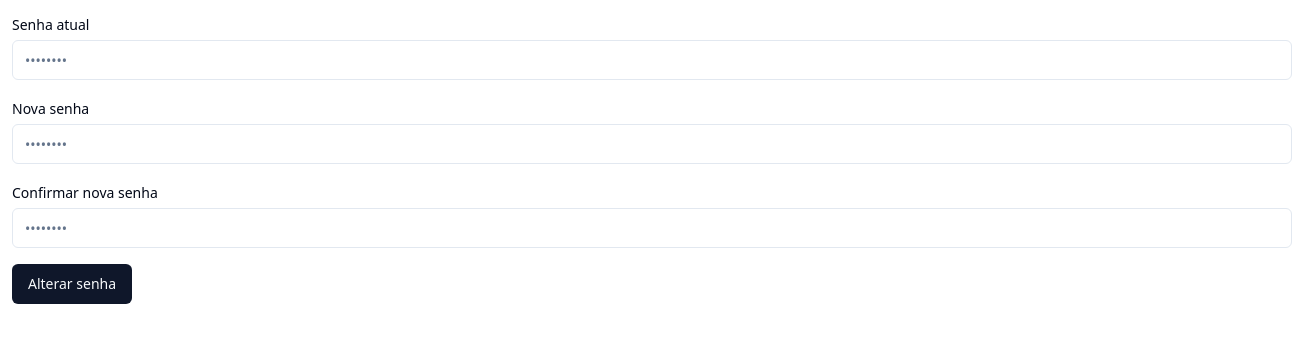
Test: PasswordForm › shows error when passwords do not match
The width and height of the screenshot is (1304, 349).
Type "senhaAtual" into the password field labelled "Senha atual" at x=652, y=60, box x1=12 y1=40 x2=1292 y2=80
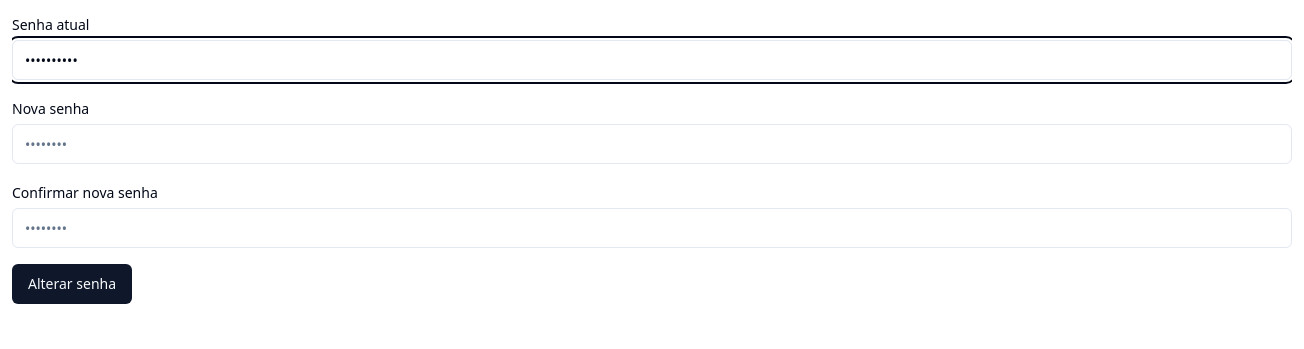
Type "novaSenha1" into the password field labelled "Nova senha" at x=652, y=144, box x1=12 y1=124 x2=1292 y2=164
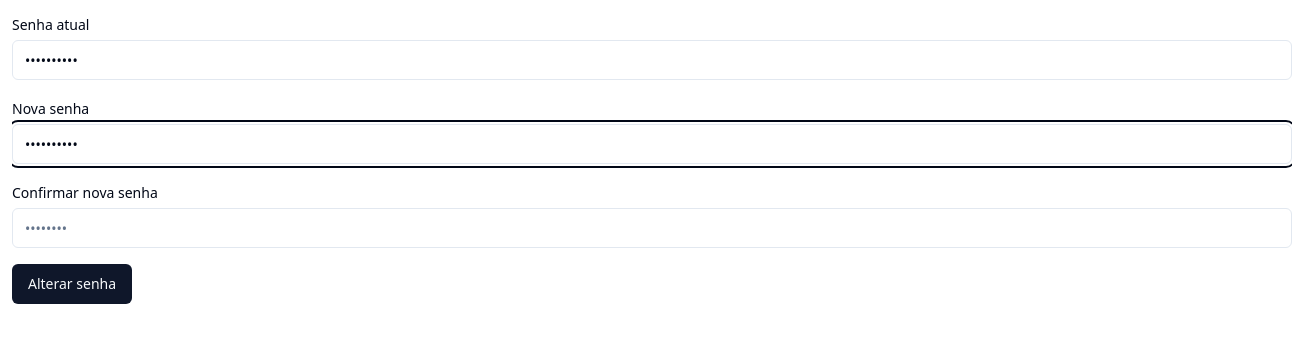
Type "novaSenha2" into the password field labelled "Confirmar nova senha" at x=652, y=228, box x1=12 y1=208 x2=1292 y2=248
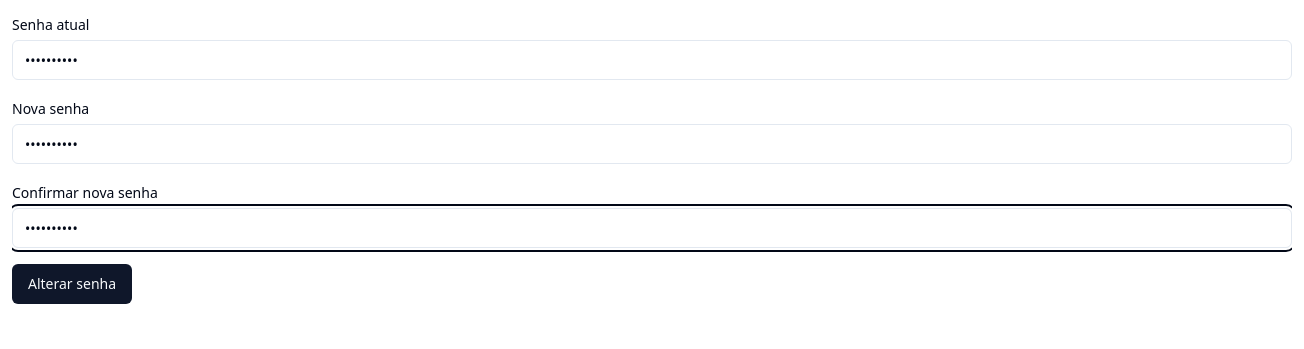
Click the button "Alterar senha" at x=72, y=284, box x1=12 y1=264 x2=132 y2=304
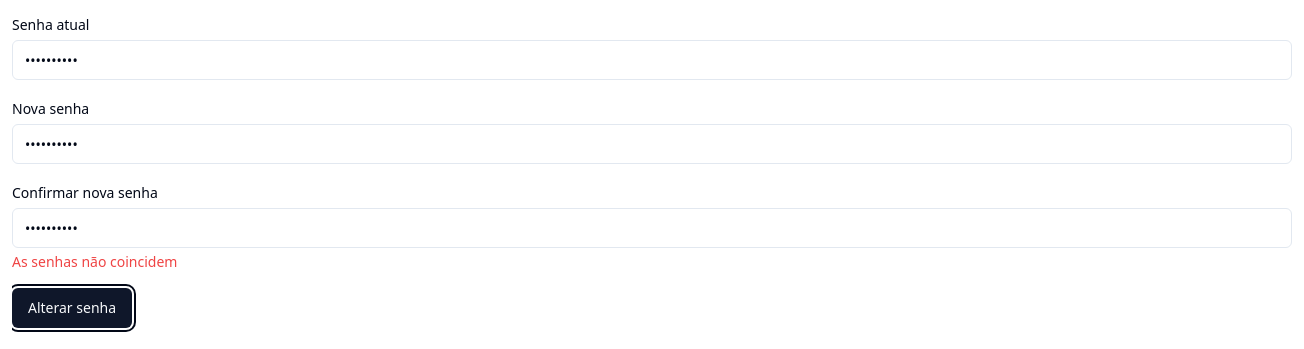
Expected: the text "As senhas não coincidem" is shown, x1=12 y1=252 x2=177 y2=271
